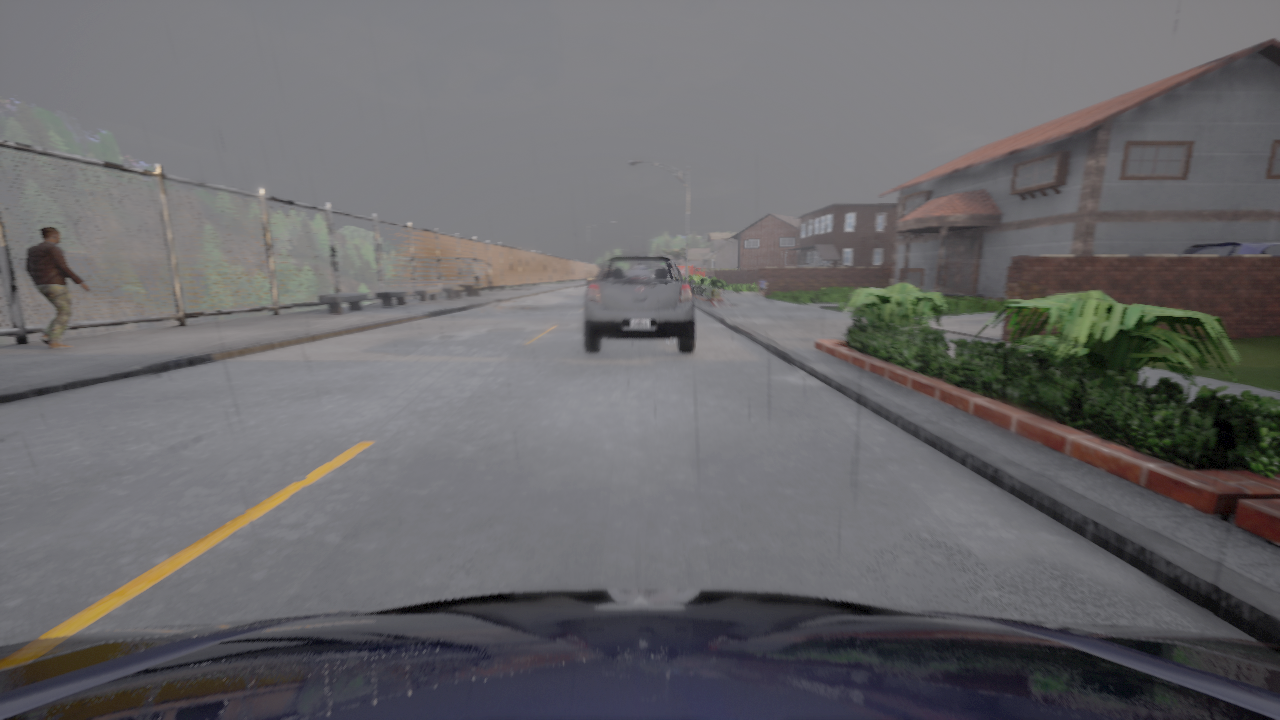cyclist: (0, 588, 1279, 719), (583, 255, 695, 353), (1180, 241, 1279, 255), (676, 264, 705, 276), (889, 259, 892, 266)
pedestrian: (25, 224, 89, 349), (758, 275, 766, 299), (709, 273, 713, 277)
